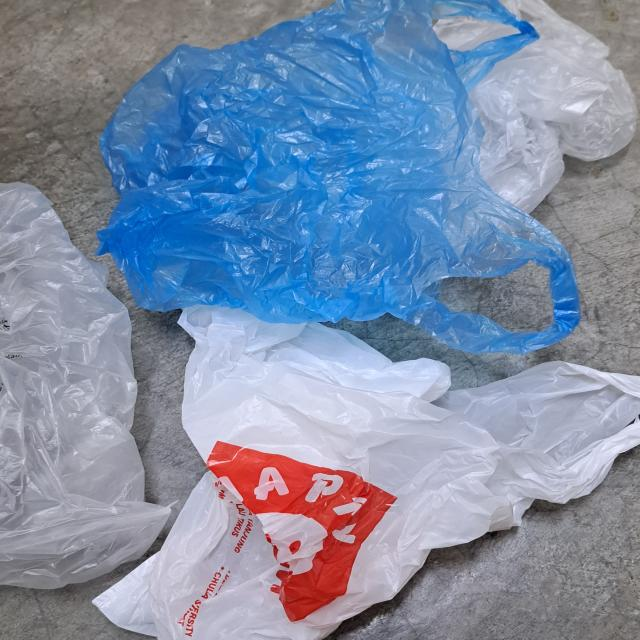plastic bag: (91, 305, 640, 640), (98, 0, 584, 355), (0, 180, 172, 590), (423, 0, 640, 218)
